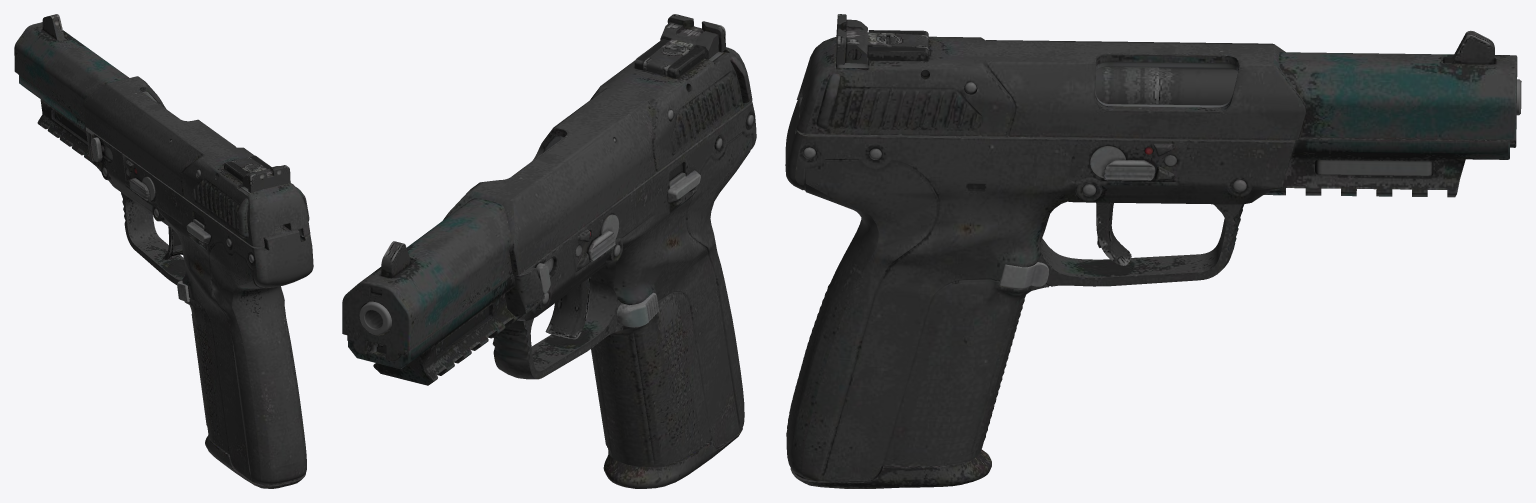
The model's file is fiveseven_r.glb.
3 views of the same model, side by side, from view 1: azimuth 30°, elevation 25°; view 2: azimuth 150°, elevation 25°; view 3: azimuth 270°, elevation 25° (orthographic). The views are drawn at different scales.
Parts seen in each view (by area): view 1: v_fiveseven_R; view 2: v_fiveseven_R; view 3: v_fiveseven_R.
Boxes of the visible parts, x1,y1,x2,y2 form: v_fiveseven_R: (14,14,313,488); v_fiveseven_R: (342,14,756,488); v_fiveseven_R: (785,14,1521,488).
Bounding box in the file's own units: 0.0322 × 0.1381 × 0.2044.
1 material, 1 textured.
